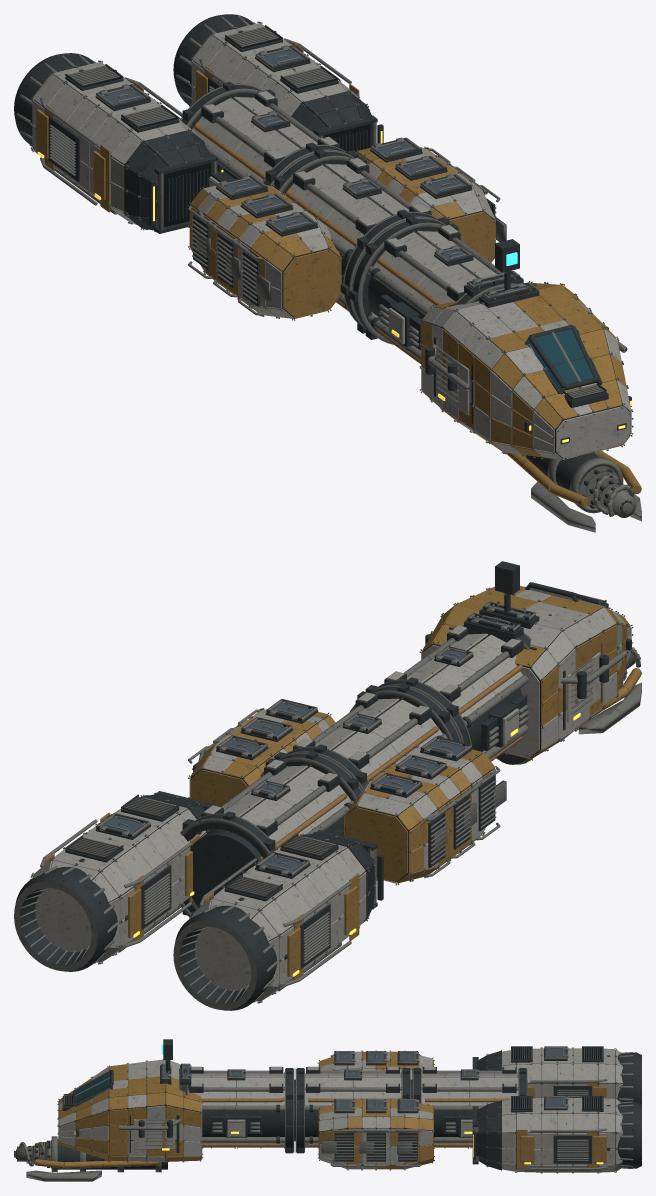
3 views of the same model, one above another, from view 1: azimuth 30°, elevation 25°; view 2: azimuth 150°, elevation 25°; view 3: azimuth 270°, elevation 25° (orthographic). The views are drawn at different scales.
Visible parts, largest first — view 1: dark-structure, machined-alloy, pale-steel-1, ochre-0, pale-steel-0, pale-steel-2, ochre-1, blue-grey-1, recess-black, canopy-glass, ochre-2, service-ochre; view 2: dark-structure, machined-alloy, pale-steel-0, pale-steel-1, ochre-0, ochre-1, pale-steel-2, blue-grey-1, ochre-2, service-ochre; view 3: dark-structure, machined-alloy, pale-steel-0, pale-steel-1, ochre-0, pale-steel-2, ochre-1, service-ochre, blue-grey-1, ochre-2, recess-black, profiled-drive (+2 smaller).
Part boxes in pixels (bbox=[...]): dark-structure: bbox=[14, 14, 632, 514]; machined-alloy: bbox=[16, 16, 641, 532]; pale-steel-1: bbox=[201, 91, 631, 459]; ochre-0: bbox=[205, 147, 641, 506]; pale-steel-0: bbox=[32, 23, 488, 316]; pale-steel-2: bbox=[202, 147, 497, 307]; ochre-1: bbox=[36, 43, 495, 309]; blue-grey-1: bbox=[104, 50, 530, 297]; recess-black: bbox=[83, 36, 604, 399]; canopy-glass: bbox=[528, 329, 595, 389]; ochre-2: bbox=[189, 147, 481, 316]; service-ochre: bbox=[194, 121, 441, 364]; dark-structure: bbox=[15, 561, 632, 1010]; machined-alloy: bbox=[14, 587, 641, 1010]; pale-steel-0: bbox=[32, 710, 482, 1001]; pale-steel-1: bbox=[204, 588, 631, 868]; ochre-0: bbox=[190, 586, 641, 882]; ochre-1: bbox=[44, 719, 495, 979]; pale-steel-2: bbox=[211, 633, 522, 883]; blue-grey-1: bbox=[103, 605, 530, 871]; ochre-2: bbox=[198, 710, 489, 883]; service-ochre: bbox=[197, 665, 522, 848]; dark-structure: bbox=[16, 1039, 641, 1172]; machined-alloy: bbox=[14, 1046, 633, 1181]; pale-steel-0: bbox=[319, 1048, 622, 1172]; pale-steel-1: bbox=[58, 1051, 515, 1169]; ochre-0: bbox=[35, 1051, 433, 1169]; pale-steel-2: bbox=[188, 1055, 432, 1169]; ochre-1: bbox=[319, 1051, 606, 1169]; service-ochre: bbox=[201, 1097, 510, 1146]; blue-grey-1: bbox=[163, 1048, 565, 1109]; ochre-2: bbox=[319, 1069, 432, 1160]; recess-black: bbox=[65, 1048, 602, 1108]; profiled-drive: bbox=[503, 1050, 621, 1171].
Bounding box in the file's own units: 20.01 × 15 × 66.4.
15 materials, 12 textured.
